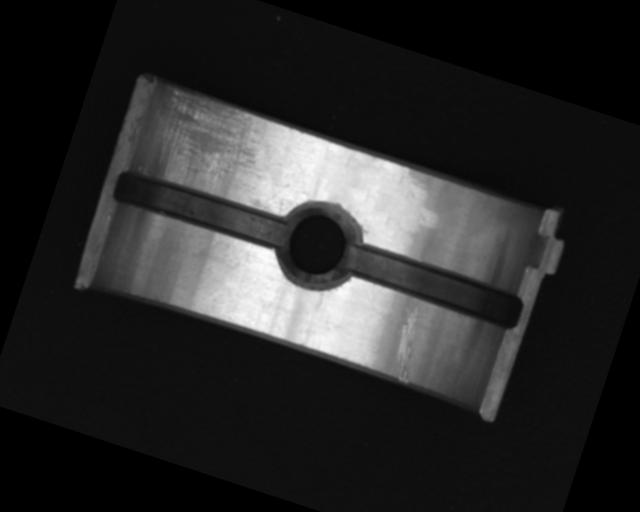gap: (341, 238, 527, 336), (108, 163, 288, 255)
hole: (267, 192, 371, 298)
nick: (382, 303, 432, 385)
scratch: (135, 80, 283, 208)
